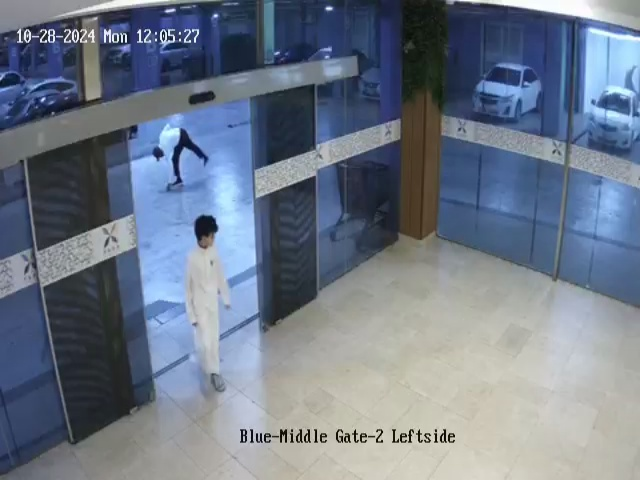employee: (152, 122, 209, 187)
male: (184, 214, 232, 394)
